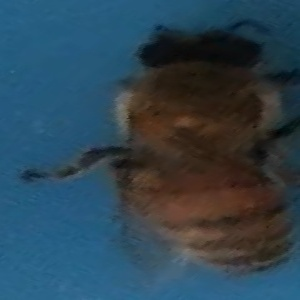bee: (83, 18, 297, 288)
